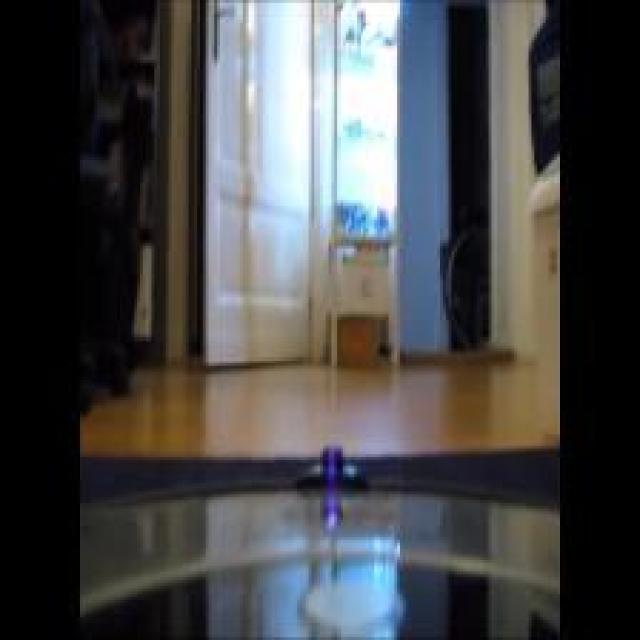other: (333, 28, 397, 216)
